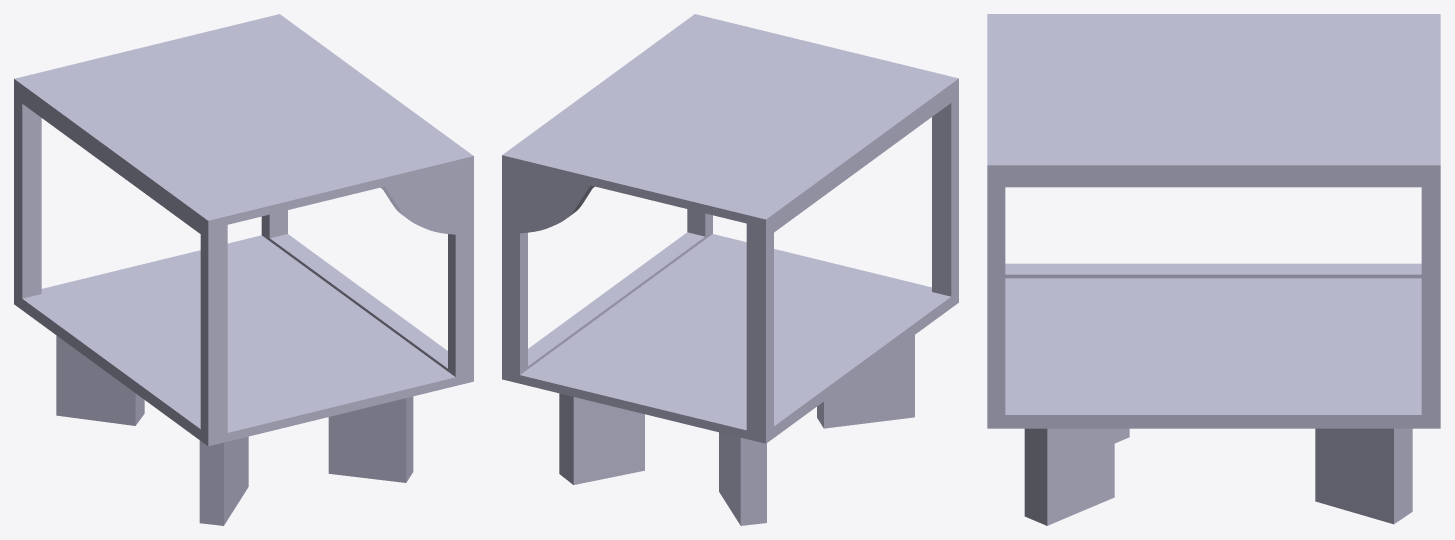
The model's file is krytn_tray_demo_00_Krytn_Tray.dae.
3 views of the same model, side by side, from view 1: azimuth 30°, elevation 25°; view 2: azimuth 150°, elevation 25°; view 3: azimuth 270°, elevation 25° (orthographic). The views are drawn at different scales.
Visible parts, largest first — view 1: node0; view 2: node0; view 3: node0.
Boxes of the visible parts, x1,y1,x2,y2 form: node0: (14,14,473,525); node0: (502,14,958,525); node0: (987,14,1440,525).
Size of the model in its own units: 0.2766 by 0.35 by 0.3245.
